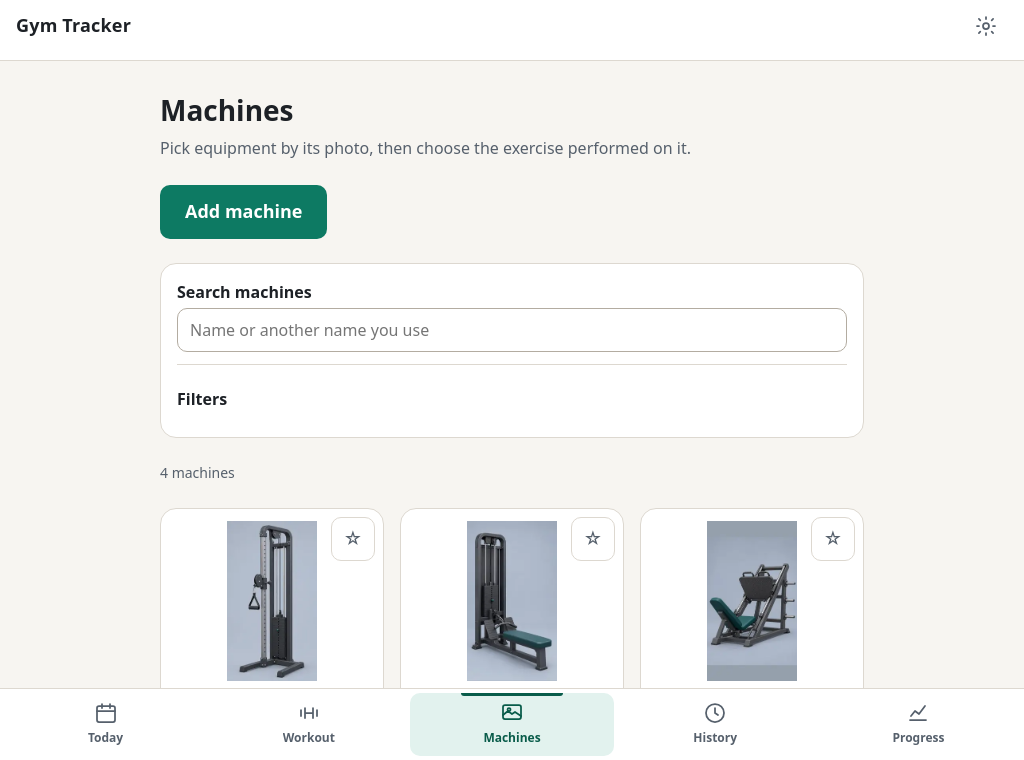
the adjustable cable station › records no exercise and no muscles rather than inventing either
Click the link with aria-label "Open Adjustable cable station": (272, 615) left=173, top=521, right=371, bottom=709
(page scrolled)
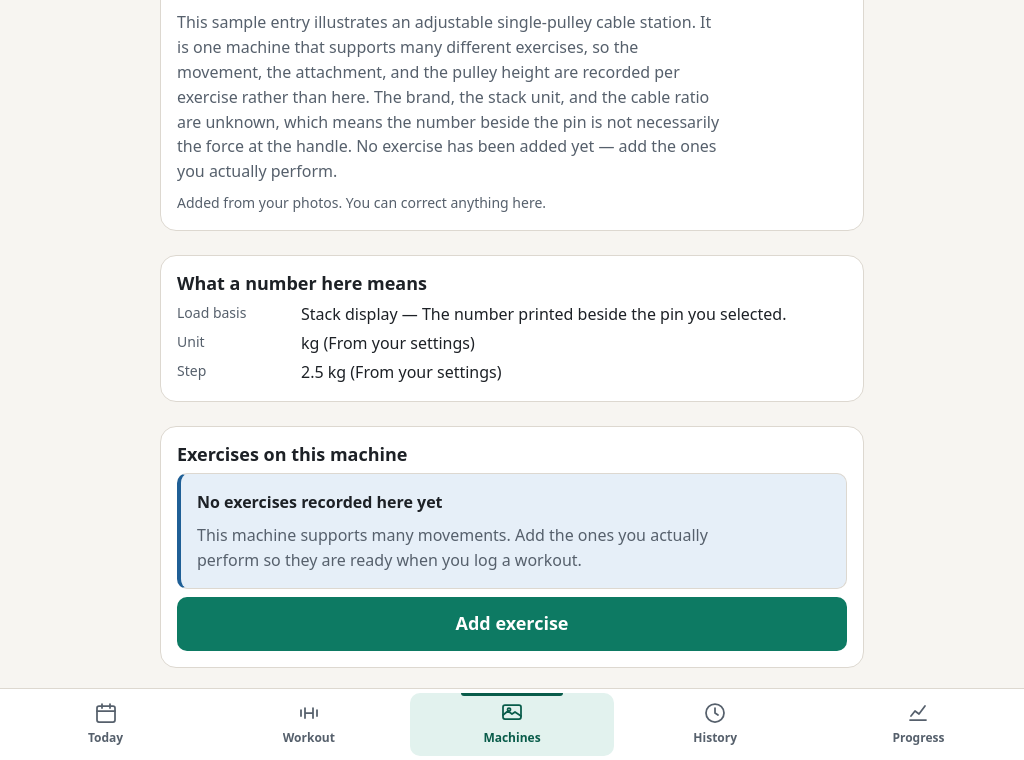
expect the text "No exercises recorded here yet" is shown: met, box left=197, top=491, right=442, bottom=513
expect the button "Add exercise" is shown: met, box left=177, top=597, right=847, bottom=651
